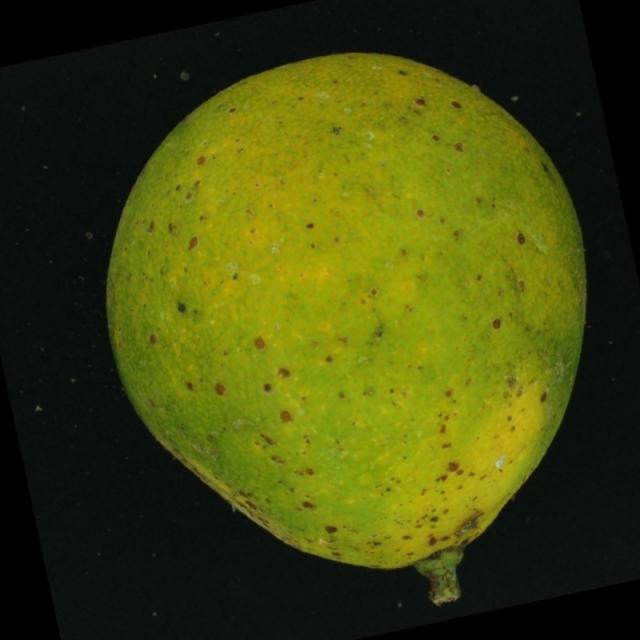grenning: (88, 32, 602, 620)
